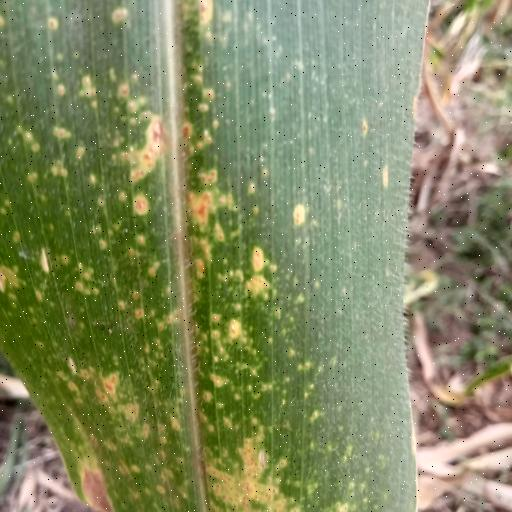Corn_Rust: (4, 0, 442, 512)
